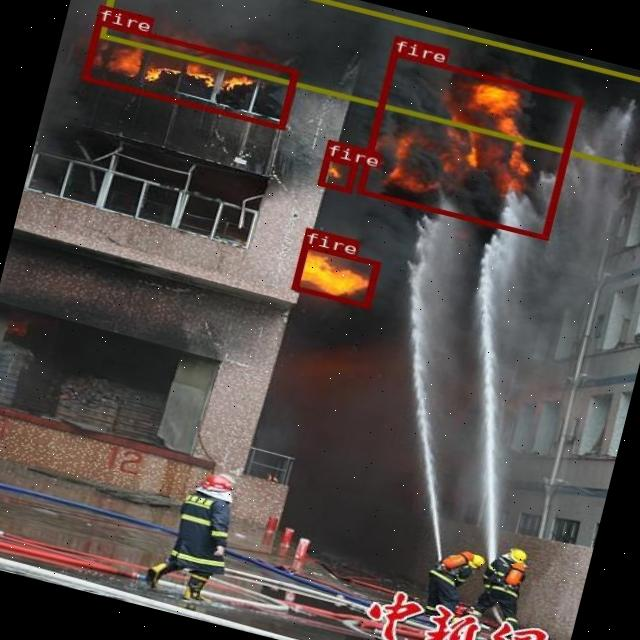fire: (356, 50, 580, 239), (79, 19, 298, 130), (290, 242, 379, 307), (316, 154, 356, 192)
smoke: (96, 0, 640, 177)
